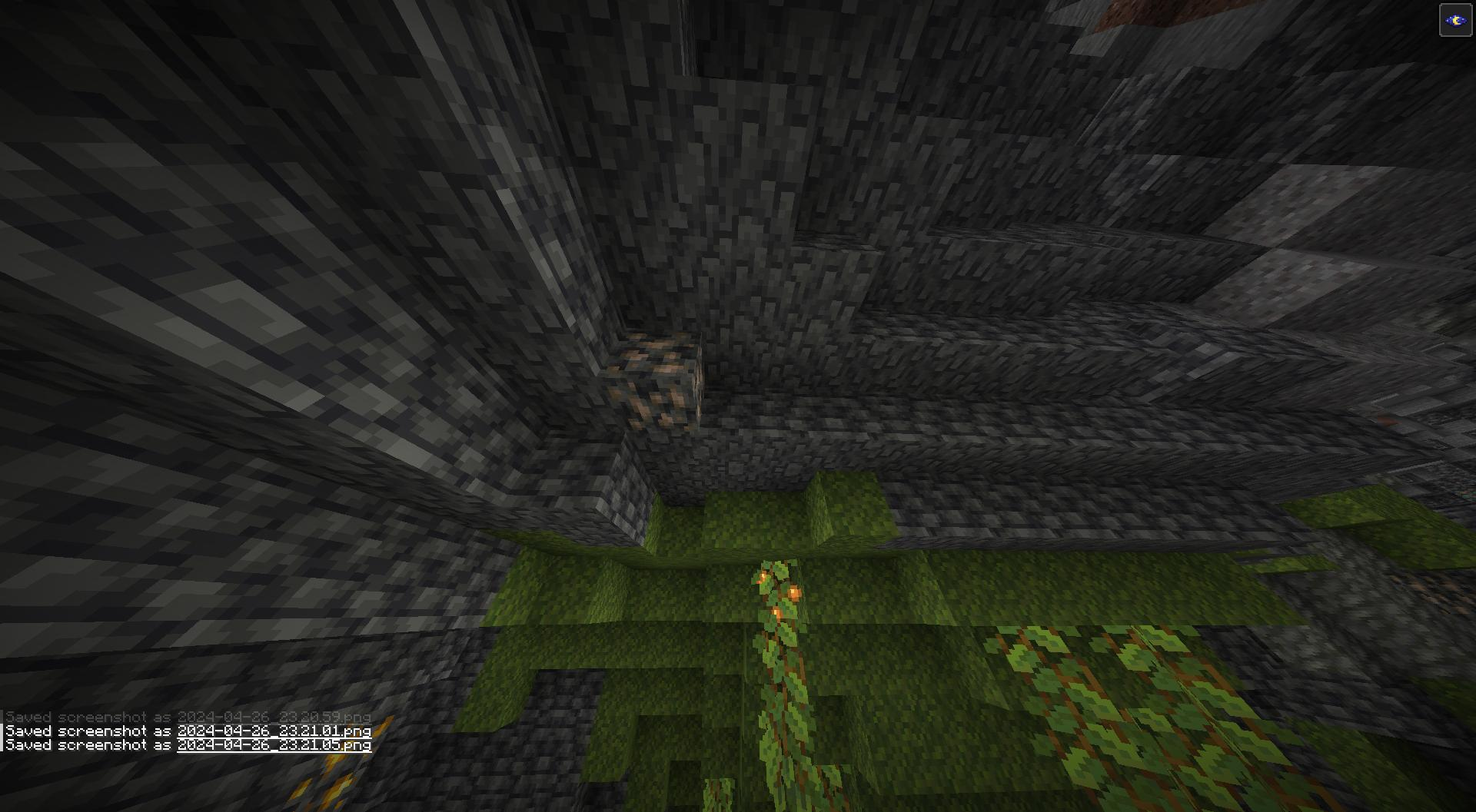gold ore: (298, 720, 384, 811)
iron ore: (608, 330, 704, 424), (1408, 567, 1476, 619)
